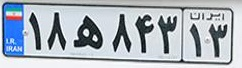character: (69, 6, 105, 57), (105, 8, 134, 59), (132, 8, 158, 62), (156, 9, 183, 61), (43, 6, 70, 55), (24, 6, 45, 53), (207, 20, 229, 61), (187, 20, 205, 61)
